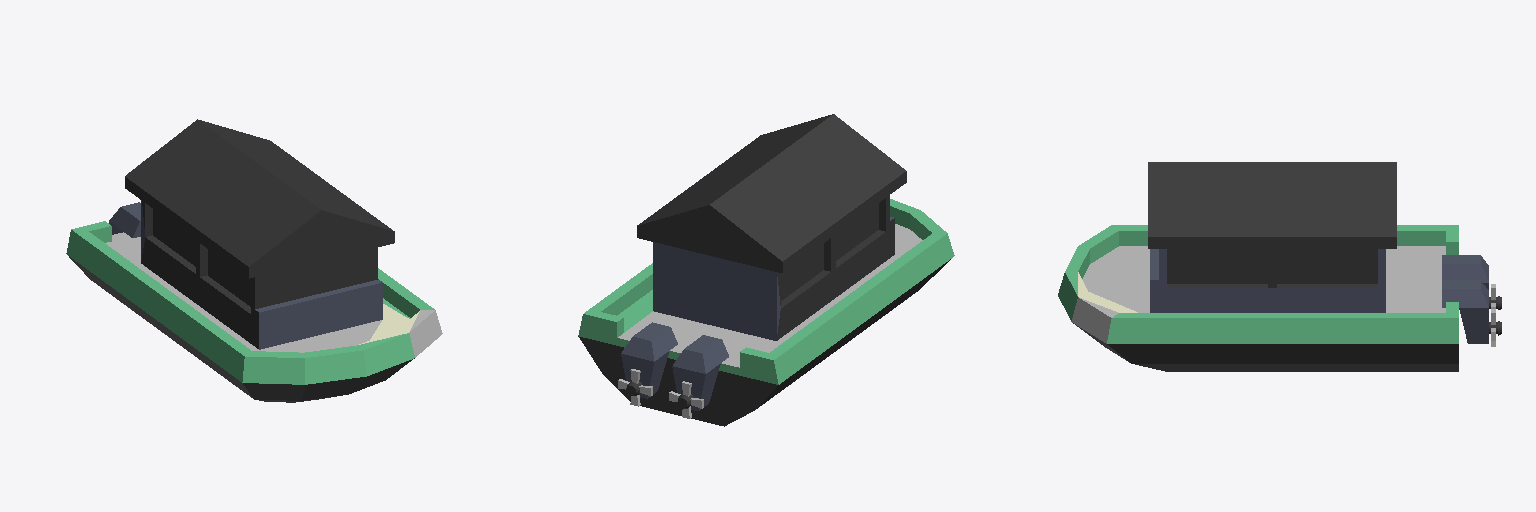
Rendered from wavecraft001_ch.obj.
The picture shows the model from 3 angles: view 1: azimuth 30°, elevation 25°; view 2: azimuth 150°, elevation 25°; view 3: azimuth 270°, elevation 25°; orthographic projection.
Visible parts, largest first — view 1: watercraftPack_001:Group1 watercraftPack_001:Group2 watercraftPa, watercraftPack_001:Group1 watercraftPack_001:Mesh5 watercraftPac, watercraftPack_001:Group1 watercraftPack_001:Group3 watercraftPa; view 2: watercraftPack_001:Group1 watercraftPack_001:Group2 watercraftPa, watercraftPack_001:Group1 watercraftPack_001:Mesh5 watercraftPac, watercraftPack_001:Group1 watercraftPack_001:Group3 watercraftPa; view 3: watercraftPack_001:Group1 watercraftPack_001:Group2 watercraftPa, watercraftPack_001:Group1 watercraftPack_001:Mesh5 watercraftPac, watercraftPack_001:Group1 watercraftPack_001:Group3 watercraftPa.
Part boxes in pixels (x1,y1,x2,y2): watercraftPack_001:Group1 watercraftPack_001:Group2 watercraftPa: (125,119,394,349); watercraftPack_001:Group1 watercraftPack_001:Mesh5 watercraftPac: (66,221,442,402); watercraftPack_001:Group1 watercraftPack_001:Group3 watercraftPa: (109,202,140,237); watercraftPack_001:Group1 watercraftPack_001:Group2 watercraftPa: (621,114,906,398); watercraftPack_001:Group1 watercraftPack_001:Mesh5 watercraftPac: (578,199,954,426); watercraftPack_001:Group1 watercraftPack_001:Group3 watercraftPa: (672,335,728,410); watercraftPack_001:Group1 watercraftPack_001:Group2 watercraftPa: (1148,162,1501,343); watercraftPack_001:Group1 watercraftPack_001:Mesh5 watercraftPac: (1058,225,1458,371); watercraftPack_001:Group1 watercraftPack_001:Group3 watercraftPa: (1442,255,1501,309).
Size of the model in its own units: 2.68 by 2.4 by 5.14.